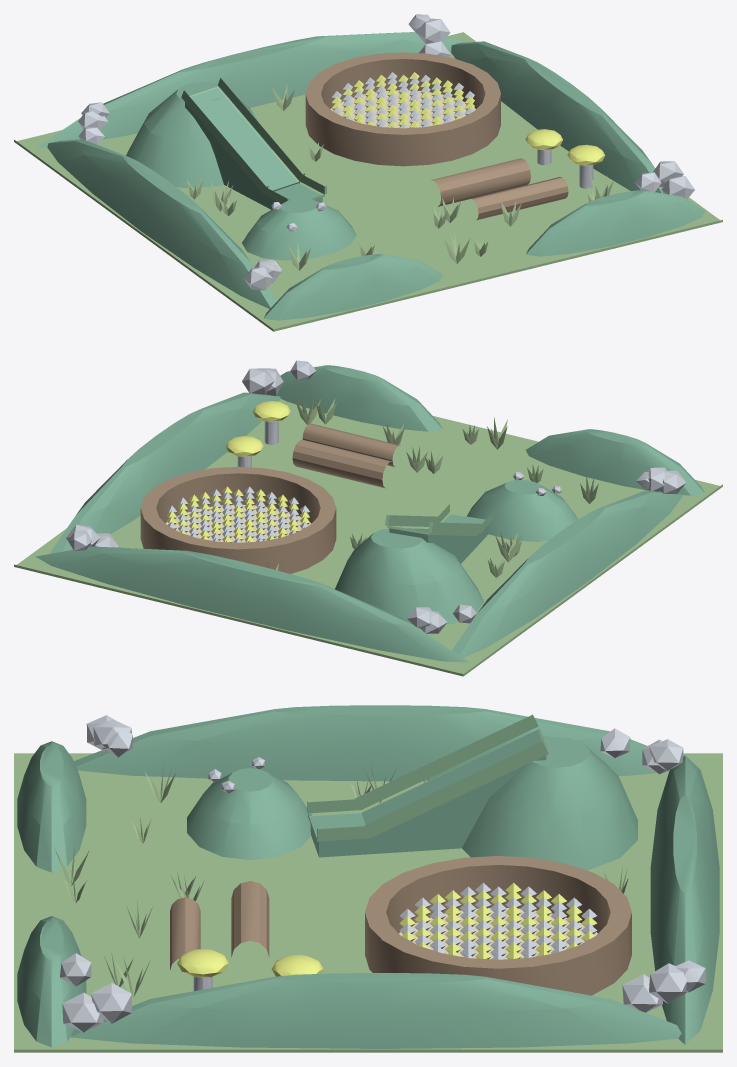
3 views of the same model, one above another, from view 1: azimuth 30°, elevation 25°; view 2: azimuth 150°, elevation 25°; view 3: azimuth 270°, elevation 25° (orthographic). The views are drawn at different scales.
Visible parts, largest first — view 1: Terrain, Safety_Pad, Pit_Rim, Root_Rollers, Foliage, Grass_Tufts, Mini_Slide, Pit_Balls_Ball, Pit_Balls_White, Pit_Bed, Mushroom_Caps, Mushroom_Stems; view 2: Terrain, Safety_Pad, Pit_Rim, Foliage, Root_Rollers, Grass_Tufts, Pit_Balls_Ball, Pit_Balls_White, Mini_Slide, Pit_Bed, Mushroom_Caps, Mushroom_Stems; view 3: Terrain, Safety_Pad, Pit_Rim, Foliage, Mini_Slide, Pit_Balls_White, Pit_Balls_Ball, Root_Rollers, Grass_Tufts, Mushroom_Caps, Pit_Bed.
Boxes of the visible parts, bbox=[...] form: Terrain: bbox=[36, 32, 704, 320]; Safety_Pad: bbox=[14, 32, 722, 331]; Pit_Rim: bbox=[305, 52, 500, 166]; Root_Rollers: bbox=[431, 158, 568, 220]; Foliage: bbox=[78, 14, 694, 290]; Grass_Tufts: bbox=[187, 84, 613, 270]; Mini_Slide: bbox=[181, 78, 326, 203]; Pit_Balls_Ball: bbox=[331, 72, 474, 127]; Pit_Balls_White: bbox=[331, 72, 474, 128]; Pit_Bed: bbox=[330, 90, 475, 127]; Mushroom_Caps: bbox=[525, 129, 605, 165]; Mushroom_Stems: bbox=[537, 149, 593, 188]; Terrain: bbox=[35, 365, 704, 662]; Safety_Pad: bbox=[14, 399, 722, 676]; Pit_Rim: bbox=[140, 466, 336, 573]; Foliage: bbox=[66, 360, 686, 633]; Root_Rollers: bbox=[292, 423, 400, 488]; Grass_Tufts: bbox=[267, 394, 598, 577]; Pit_Balls_Ball: bbox=[167, 486, 309, 542]; Pit_Balls_White: bbox=[167, 486, 309, 542]; Mini_Slide: bbox=[385, 504, 493, 536]; Pit_Bed: bbox=[165, 504, 311, 542]; Mushroom_Caps: bbox=[225, 401, 290, 456]; Mushroom_Stems: bbox=[237, 421, 278, 467]; Terrain: bbox=[17, 705, 719, 1048]; Safety_Pad: bbox=[14, 753, 722, 1052]; Pit_Rim: bbox=[365, 856, 631, 995]; Foliage: bbox=[60, 715, 705, 1032]; Mini_Slide: bbox=[307, 714, 548, 841]; Pit_Balls_White: bbox=[399, 882, 597, 959]; Pit_Balls_Ball: bbox=[399, 882, 597, 959]; Root_Rollers: bbox=[170, 881, 269, 970]; Grass_Tufts: bbox=[54, 764, 628, 997]; Mushroom_Caps: bbox=[177, 949, 323, 977]; Pit_Bed: bbox=[399, 908, 597, 959].
Size of what is drawn, in the model's own units: 6 by 1 by 6.
8 materials, 1 textured.
